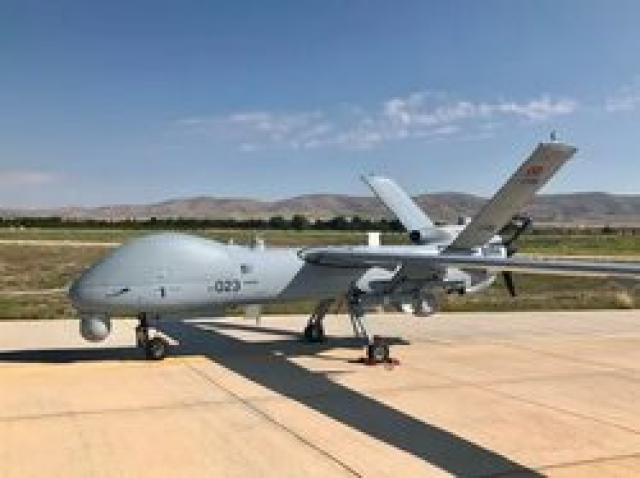military drone: (67, 130, 640, 363)
